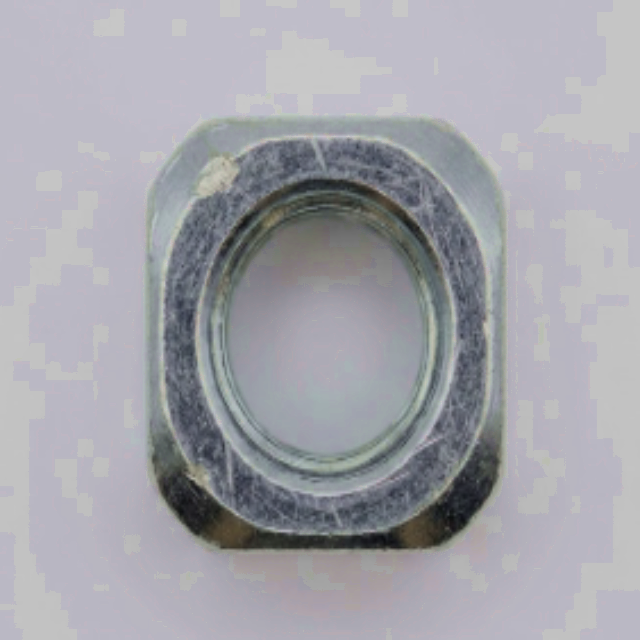defect: (190, 146, 242, 197), (180, 460, 207, 488)
